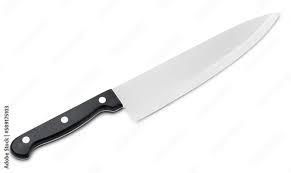Knife: (9, 11, 280, 159)
